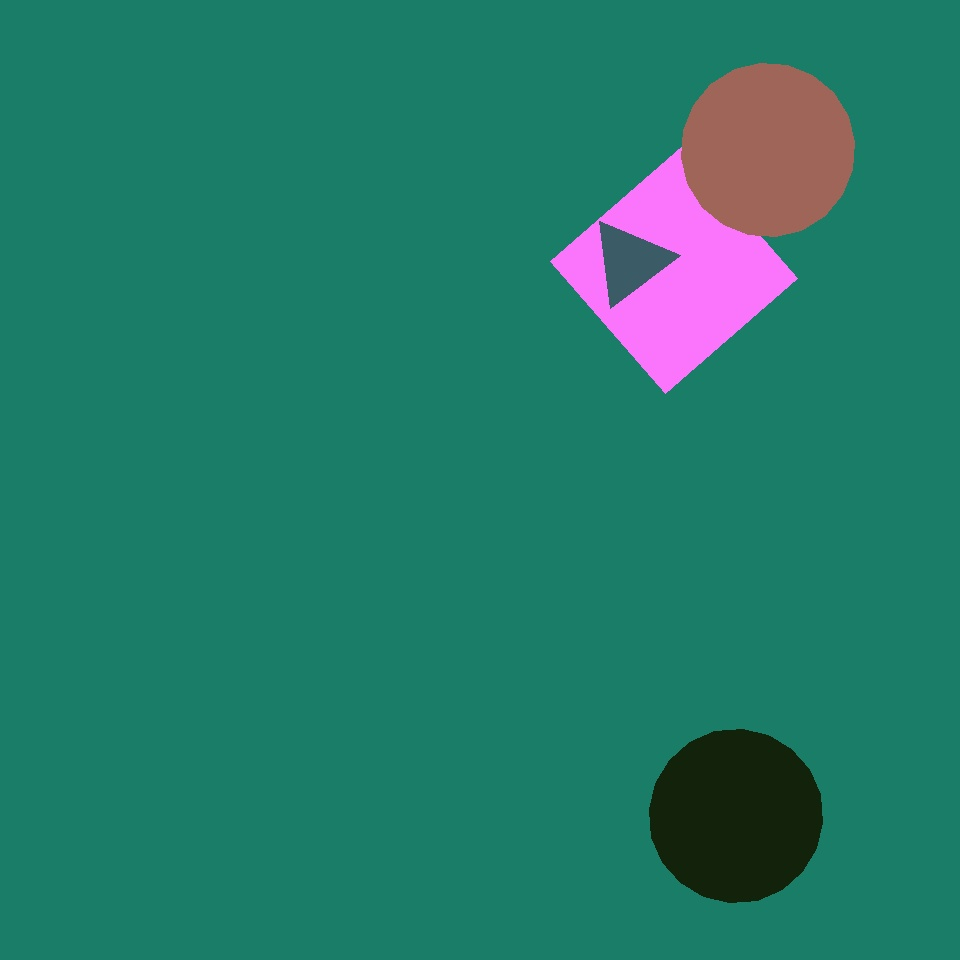circle: (590, 218, 670, 305)
square: (550, 146, 798, 394)
triangle: (650, 730, 822, 902), (682, 64, 854, 236)
